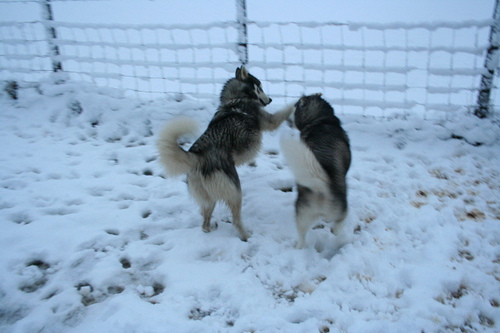dog: (156, 62, 296, 241), (282, 90, 353, 247)
